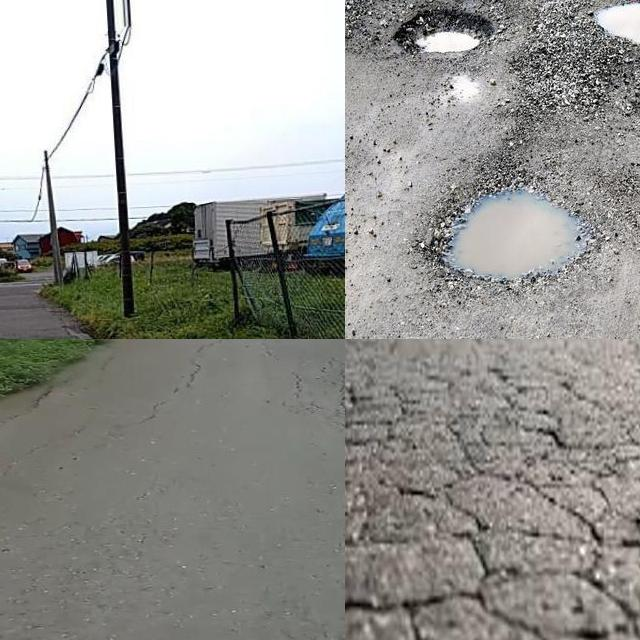Lubang: (427, 172, 594, 280), (407, 11, 492, 58), (590, 0, 640, 52)
Retak Buaya: (345, 339, 640, 640)
